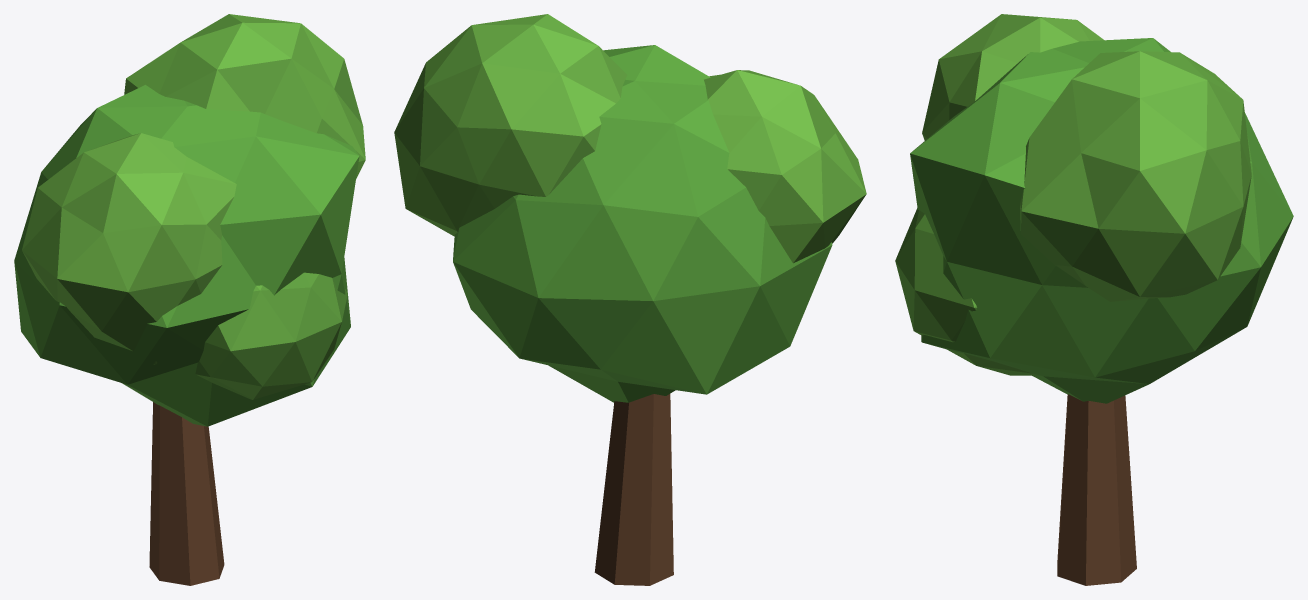
The model's file is tree_broad_2.glb.
3 views of the same model, side by side, from view 1: azimuth 30°, elevation 25°; view 2: azimuth 150°, elevation 25°; view 3: azimuth 270°, elevation 25° (orthographic). The views are drawn at different scales.
Visible parts, largest first — view 1: tree_broad_2; view 2: tree_broad_2; view 3: tree_broad_2.
Boxes of the visible parts, bbox=[...] form: tree_broad_2: bbox=[14, 14, 365, 585]; tree_broad_2: bbox=[394, 14, 866, 585]; tree_broad_2: bbox=[895, 14, 1293, 585].
Size of the model in its own units: 4.55 by 6.17 by 4.
